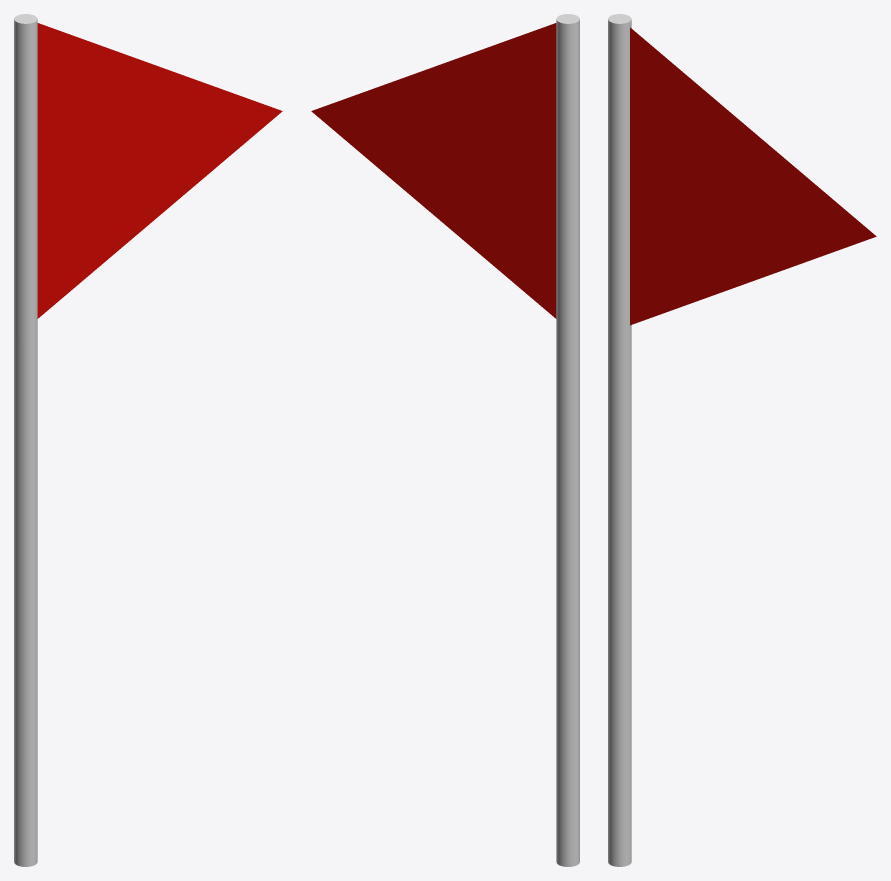
File: Golf_flag.fbx
3 views of the same model, side by side, from view 1: azimuth 30°, elevation 25°; view 2: azimuth 150°, elevation 25°; view 3: azimuth 330°, elevation 25° (orthographic).
Visible parts, largest first — view 1: Cylinder.001, Cylinder; view 2: Cylinder.001, Cylinder; view 3: Cylinder.001, Cylinder.
Boxes of the visible parts, left/top/right/bottom form: Cylinder.001: left=37, top=23, right=282, bottom=318; Cylinder: left=14, top=14, right=37, bottom=866; Cylinder.001: left=311, top=23, right=556, bottom=318; Cylinder: left=556, top=14, right=579, bottom=866; Cylinder.001: left=630, top=27, right=876, bottom=325; Cylinder: left=608, top=14, right=631, bottom=866.
Size of the model in its own units: 49.11 by 148 by 3.74.
